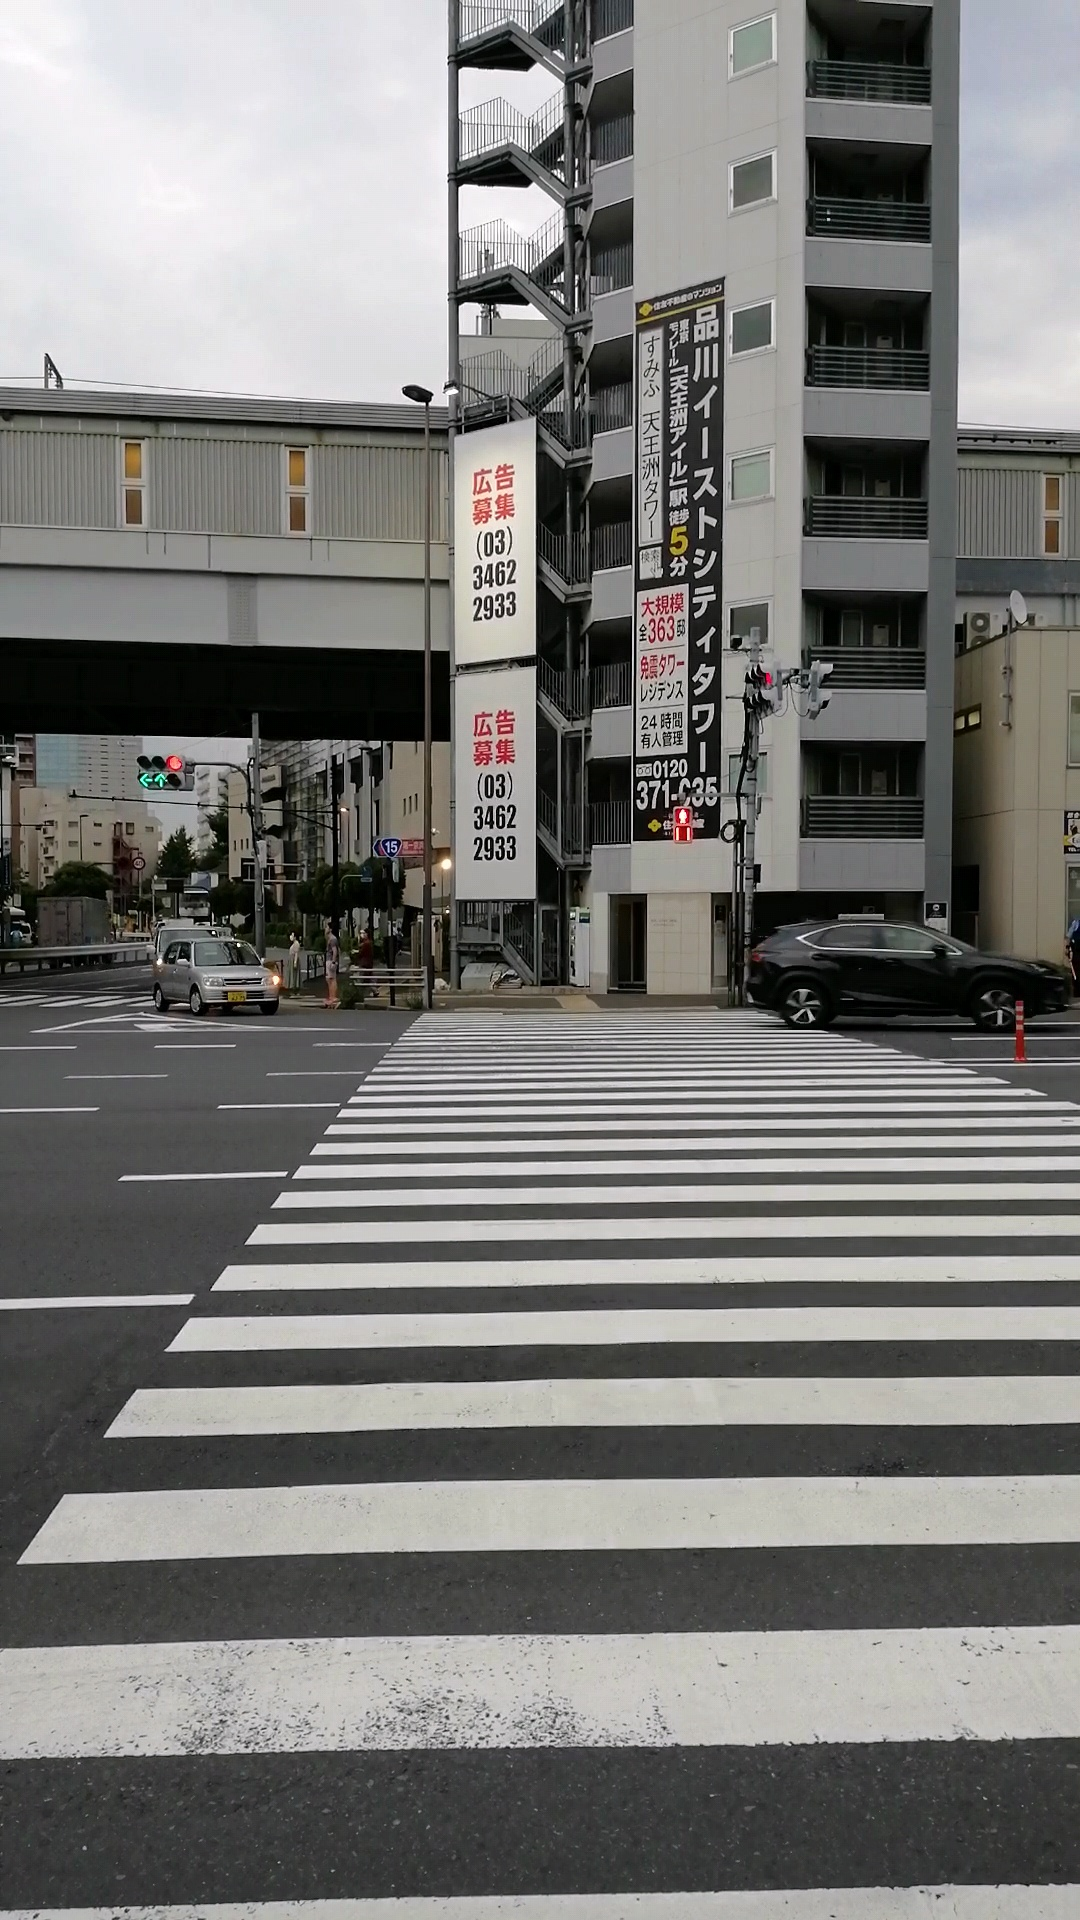red: (671, 804, 691, 844)
